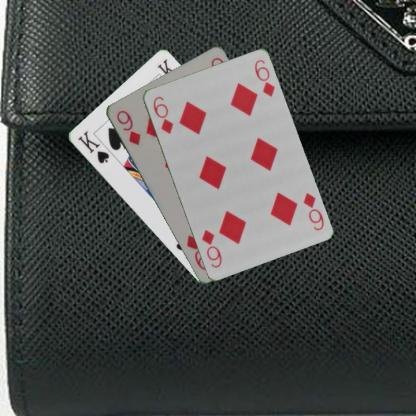6d: (300, 190, 325, 232), (150, 94, 174, 135)
9d: (113, 107, 142, 147)
Ks: (74, 128, 110, 166)
